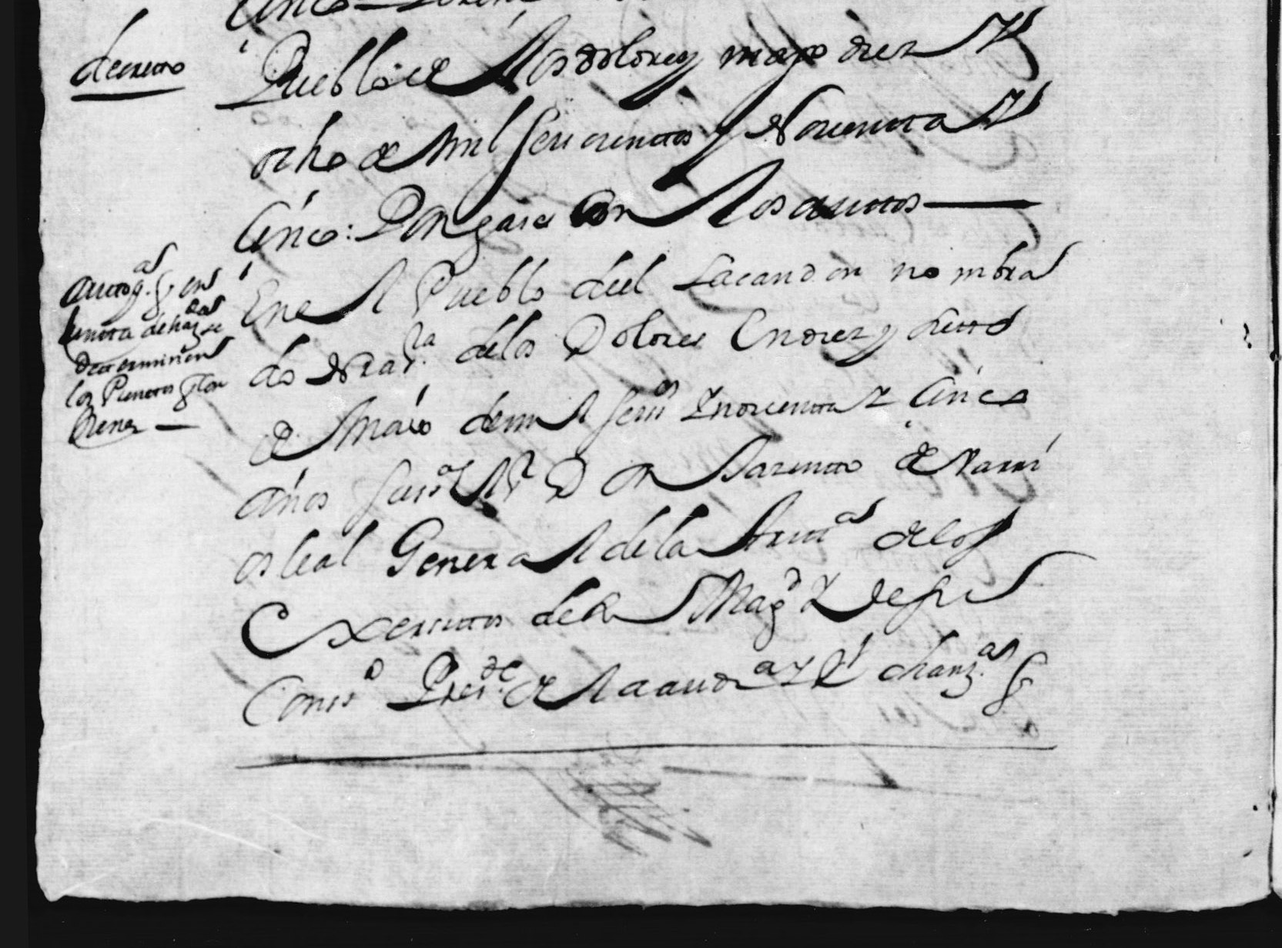lacandon: (672, 253, 862, 291)
